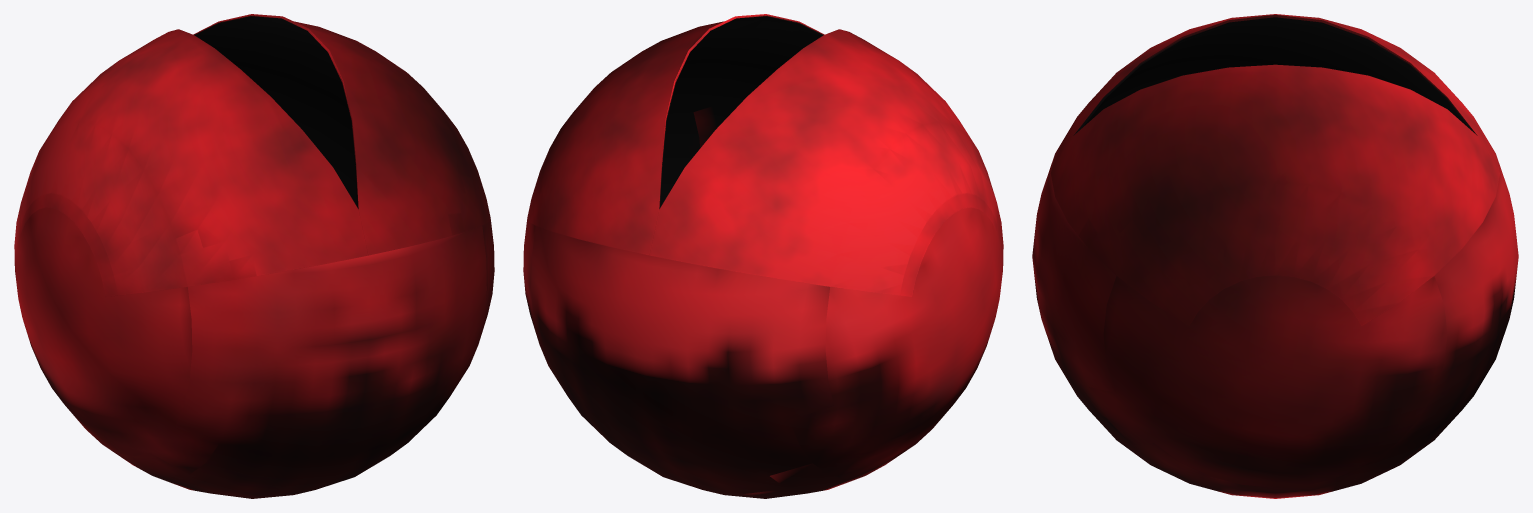
Rendered from newpinball_eye_outer.fbx.
3 renders of one model, left to right at view 1: azimuth 30°, elevation 25°; view 2: azimuth 150°, elevation 25°; view 3: azimuth 270°, elevation 25°, orthographic.
Parts seen in each view (by area): view 1: eyeouter; view 2: eyeouter; view 3: eyeouter.
Boxes of the visible parts, box(x1,y1,x2,y2) form: eyeouter: box(14, 14, 494, 498); eyeouter: box(523, 14, 1003, 498); eyeouter: box(1032, 14, 1518, 498).
Size of the model in its own units: 11.75 by 11.8 by 11.76.
